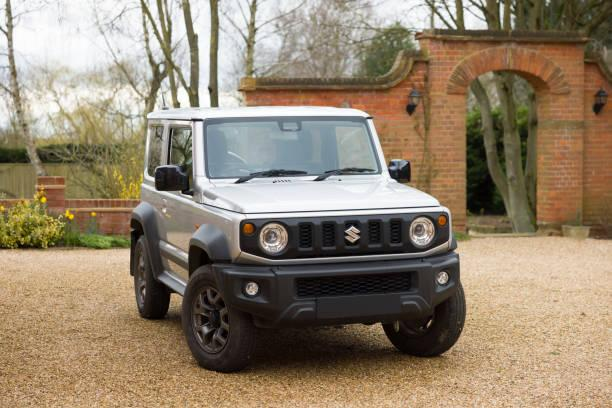suzuki: (339, 220, 366, 246)
